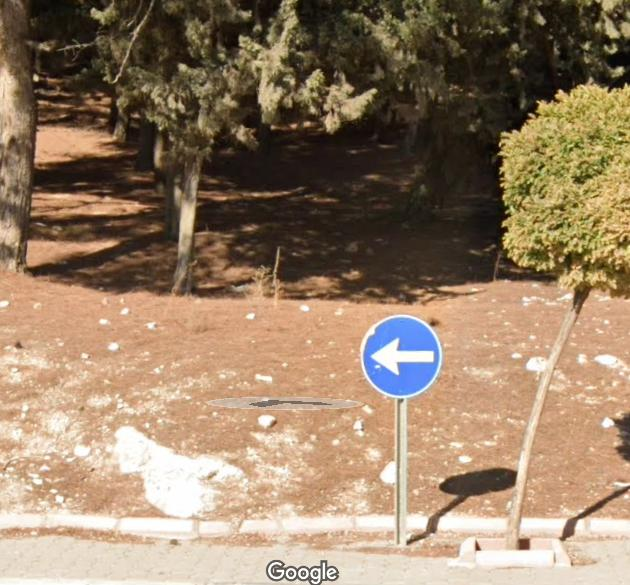turnleft: (363, 312, 440, 401)
